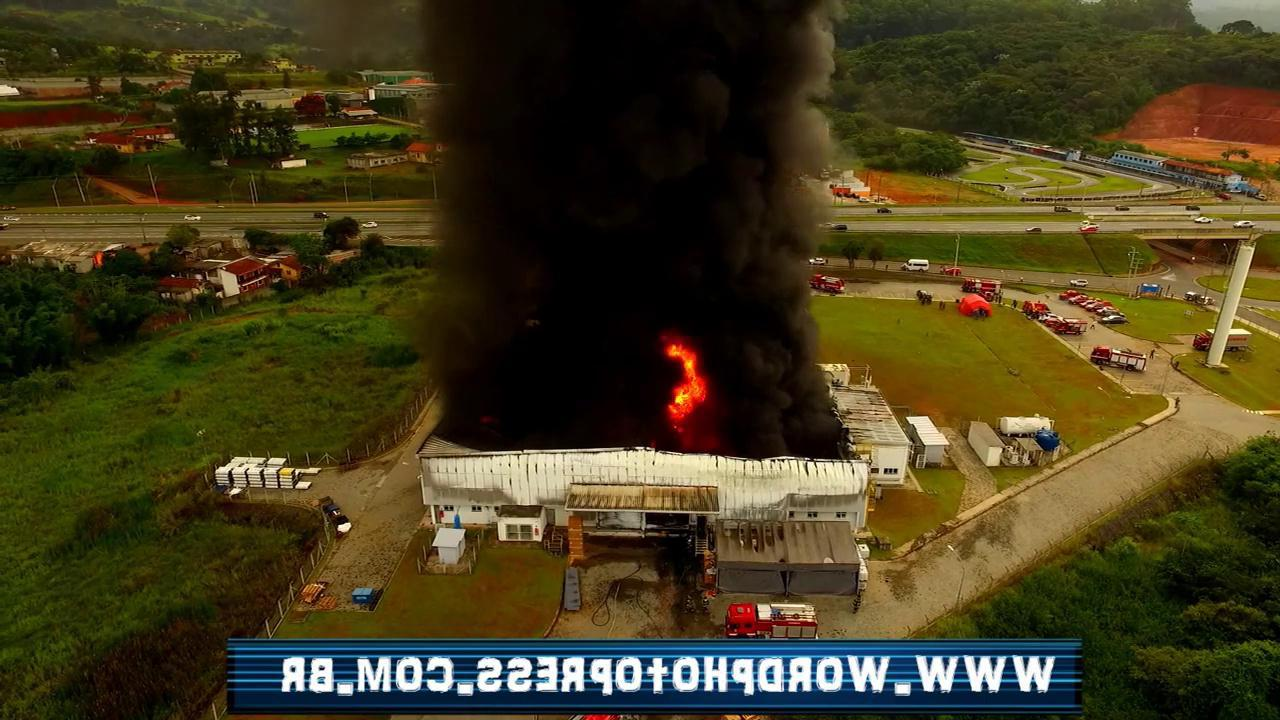Fire: (658, 330, 710, 430)
